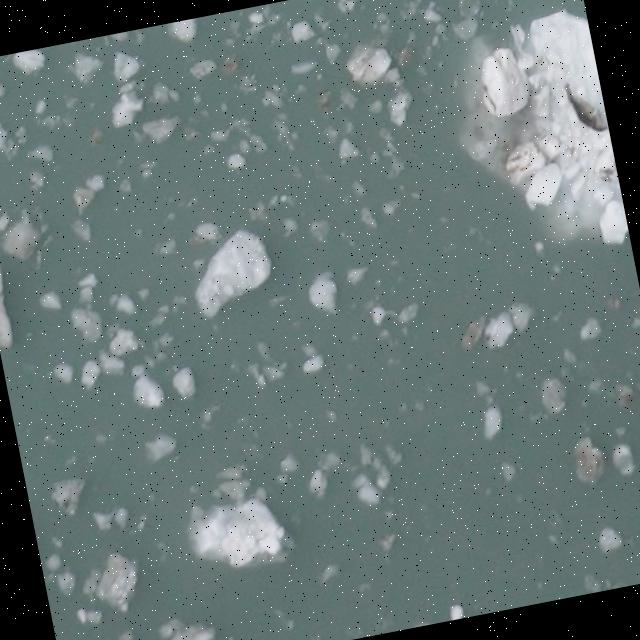seal: (555, 86, 610, 137)
